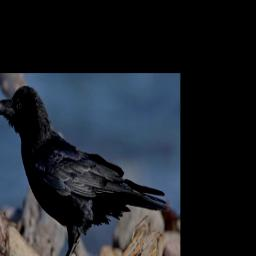Crow: (0, 85, 170, 256)
